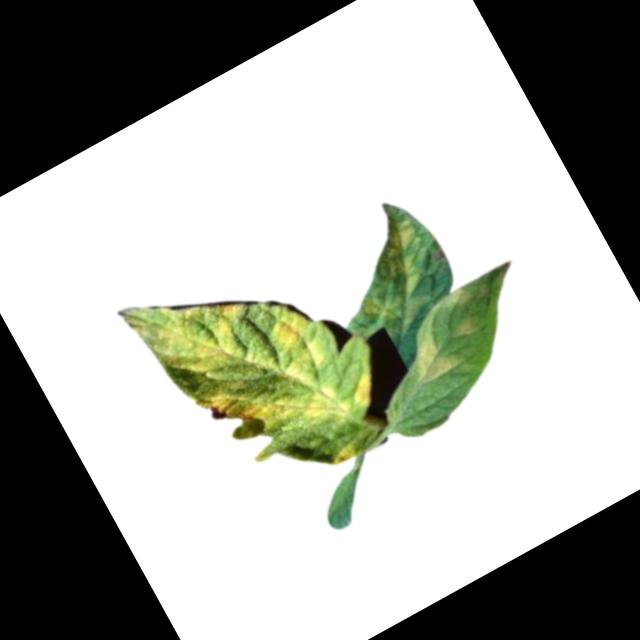Leaf_Mold: (115, 218, 404, 525), (325, 202, 460, 345), (395, 321, 460, 389), (445, 311, 485, 346)
